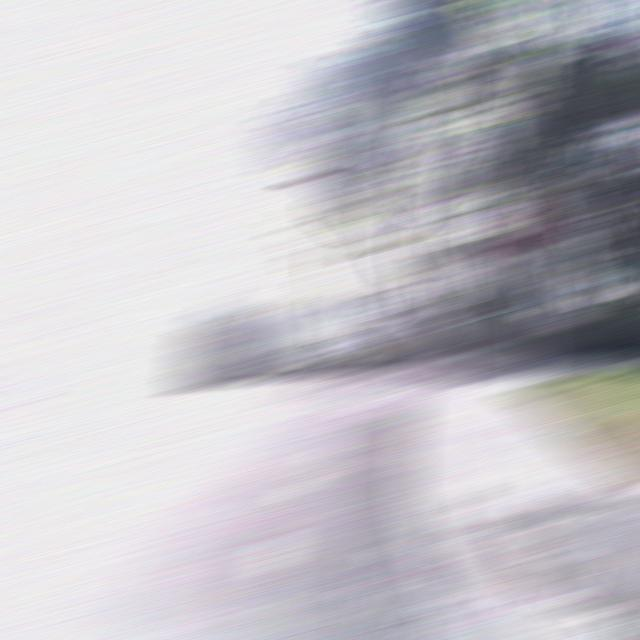stop_sign: (498, 204, 555, 252)
